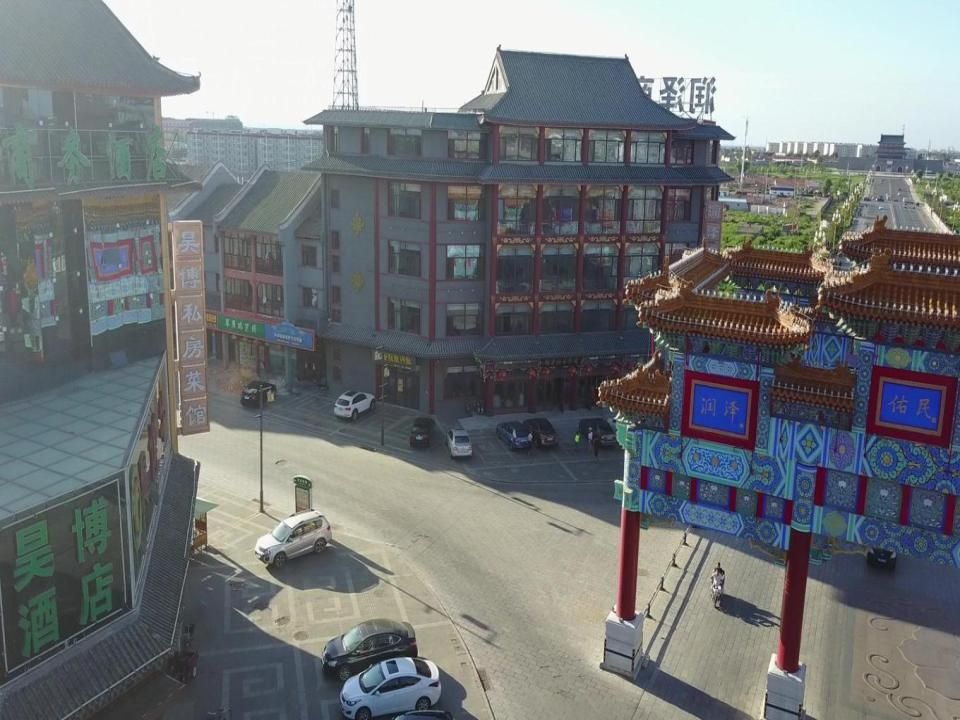car: (340, 657, 441, 720), (321, 618, 418, 680), (255, 508, 332, 568), (866, 515, 902, 569), (333, 390, 376, 420), (496, 421, 532, 451), (579, 418, 616, 447), (523, 418, 558, 448), (240, 381, 277, 408), (410, 417, 436, 447), (446, 430, 472, 459), (813, 195, 822, 199), (879, 205, 883, 209)
van: (904, 203, 907, 207)
